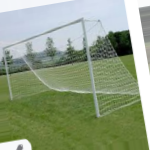goals: (2, 17, 140, 122)
